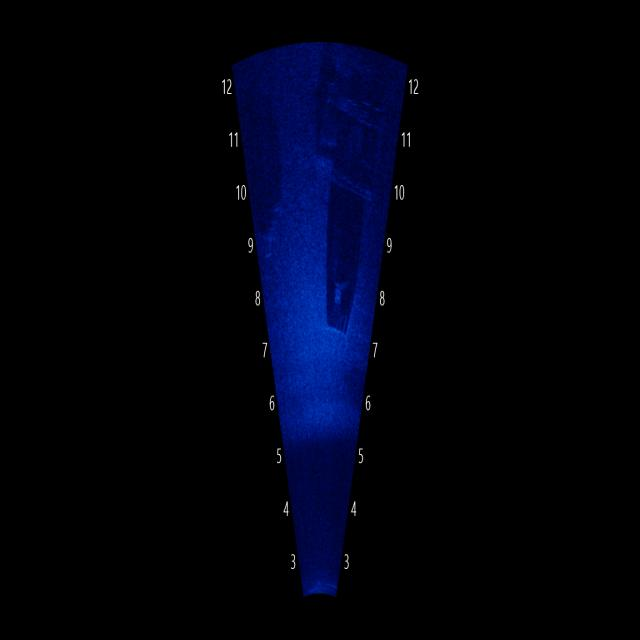square: (305, 196, 360, 349)
